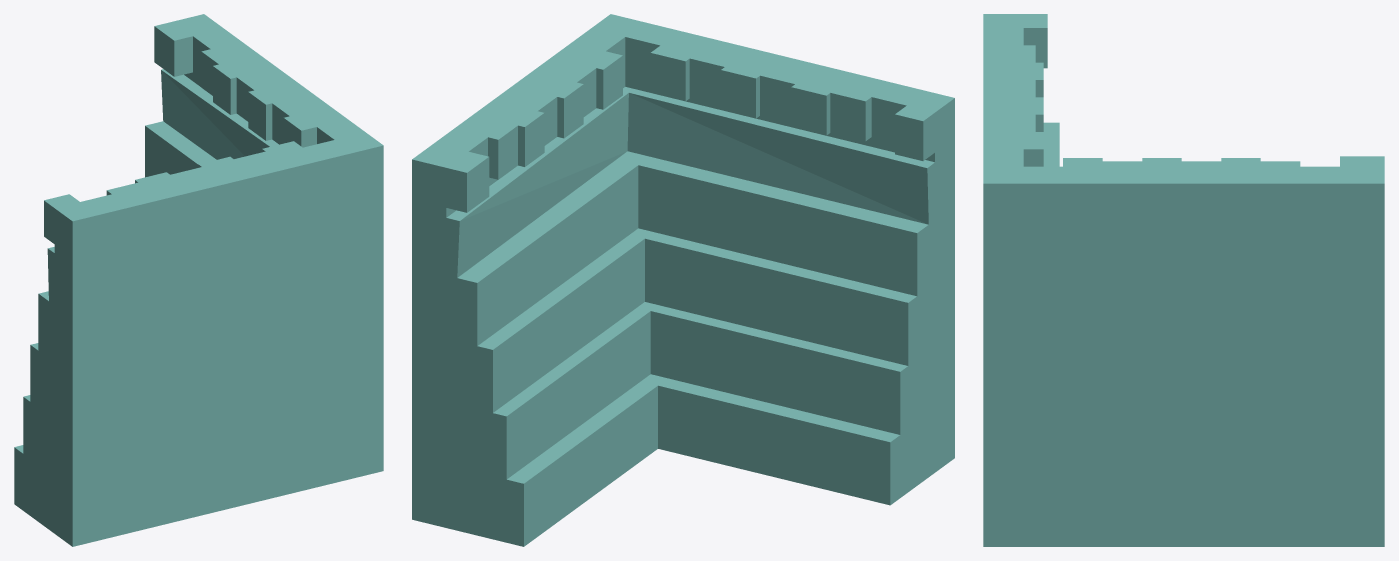
File: EspacioInicialEsquinaCierreInteriorAltoNI.gltf
3 views of the same model, side by side, from view 1: azimuth 30°, elevation 25°; view 2: azimuth 150°, elevation 25°; view 3: azimuth 270°, elevation 25° (orthographic). The views are drawn at different scales.
Visible parts, largest first — view 1: Pared interior esquina Alta.16; view 2: Pared interior esquina Alta.16; view 3: Pared interior esquina Alta.16.
Boxes of the visible parts, left/top/right/bottom form: Pared interior esquina Alta.16: left=14, top=14, right=383, bottom=546; Pared interior esquina Alta.16: left=412, top=14, right=954, bottom=546; Pared interior esquina Alta.16: left=983, top=14, right=1384, bottom=546.
Size of the model in its own units: 2 by 2 by 2.
